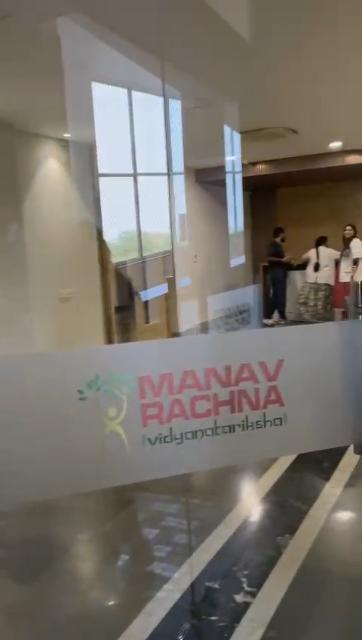moving-obj: (246, 234, 306, 352), (300, 232, 348, 312), (326, 224, 362, 308)
